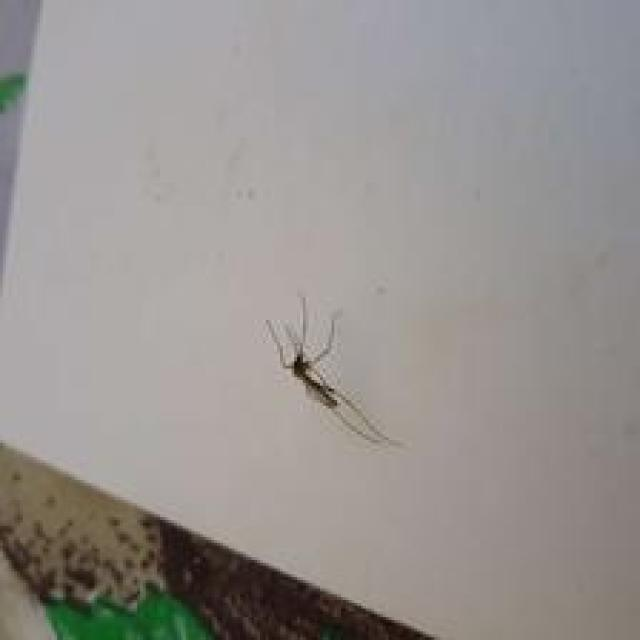Culex: (263, 293, 406, 450)
